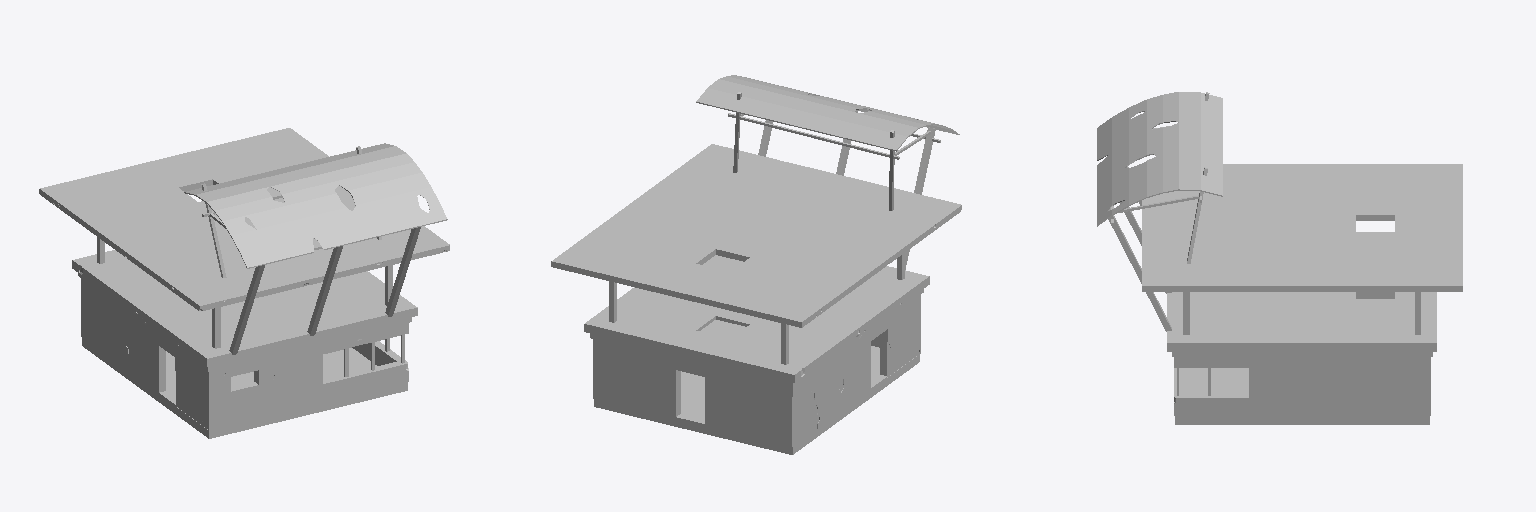
File: building.obj
3 views of the same model, side by side, from view 1: azimuth 30°, elevation 25°; view 2: azimuth 150°, elevation 25°; view 3: azimuth 270°, elevation 25° (orthographic).
Parts seen in each view (by area): view 1: Cube, Cube.006, Cube.015, Cube.011, Cube.012, Cube.010; view 2: Cube.006, Cube, Cube.015, Cube.016, Cube.011; view 3: Cube.006, Cube, Cube.015, Cube.010.
Part boxes in pixels (x1,y1,x2,y2): Cube: (72, 250, 417, 438); Cube.006: (39, 128, 449, 310); Cube.015: (184, 143, 447, 268); Cube.011: (229, 265, 264, 354); Cube.012: (307, 246, 342, 335); Cube.010: (385, 227, 420, 316); Cube.006: (551, 144, 961, 327); Cube: (584, 255, 929, 454); Cube.015: (696, 75, 959, 151); Cube.016: (728, 113, 930, 159); Cube.011: (905, 127, 935, 269); Cube.006: (1142, 164, 1462, 291); Cube: (1167, 292, 1436, 424); Cube.015: (1097, 92, 1222, 226); Cube.010: (1107, 208, 1171, 331).
Bounding box in the file's own units: 22.5 × 20.67 × 28.45.